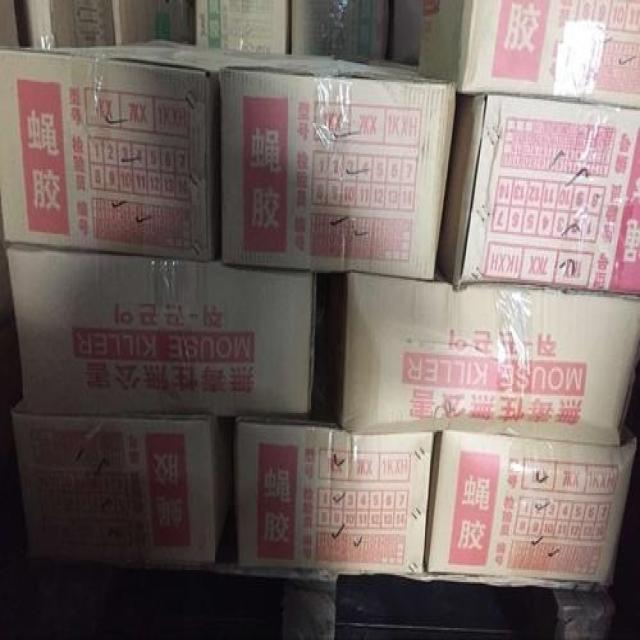box: (1, 37, 270, 261), (318, 272, 638, 445), (218, 53, 455, 280), (5, 244, 317, 413), (437, 90, 638, 296), (12, 394, 234, 562), (426, 426, 637, 587), (236, 415, 433, 568), (424, 6, 638, 106), (290, 2, 389, 61), (197, 1, 293, 54), (18, 1, 117, 42), (113, 1, 197, 42), (394, 1, 423, 64), (1, 1, 20, 44)
